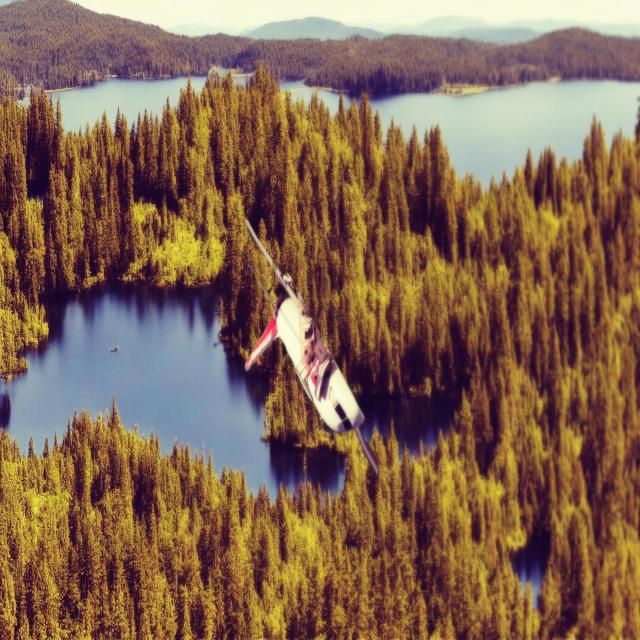airplane: (243, 216, 379, 478)
